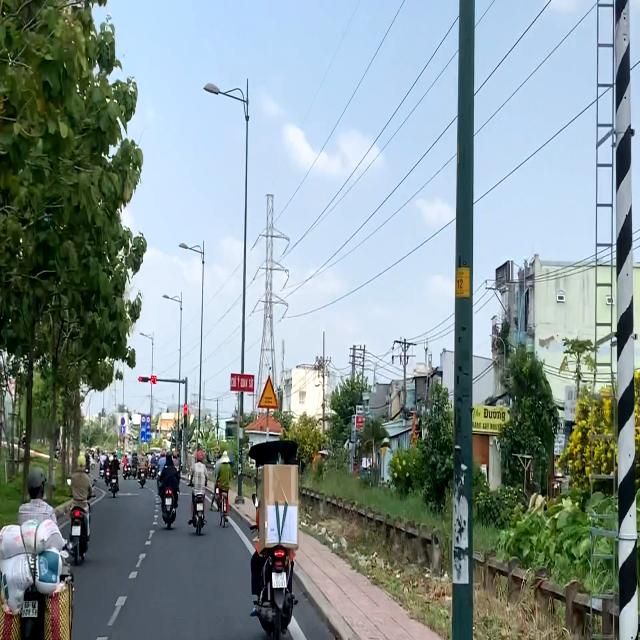W.210: (257, 374, 280, 408)
